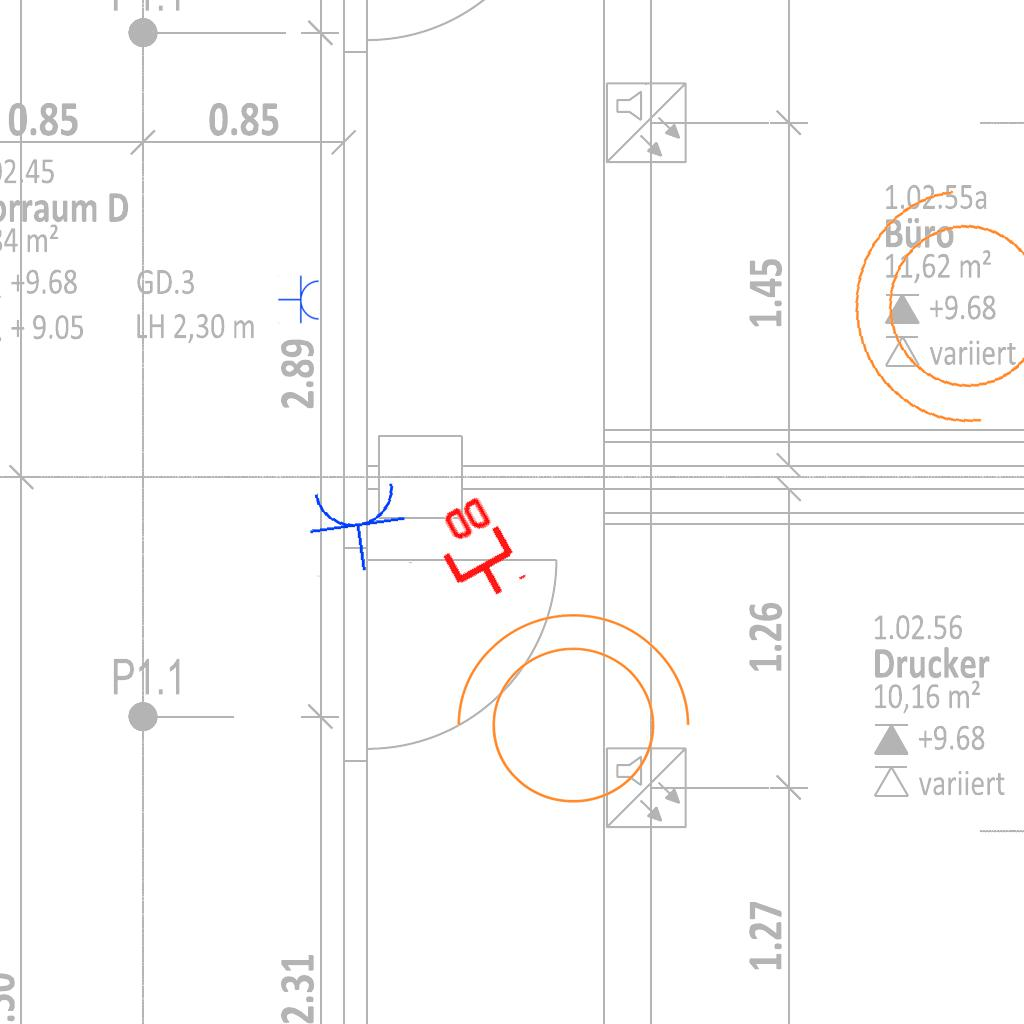Datenanschluss_zweifach: (419, 489, 530, 614)
Scheinwerfer_fuer_Alarmbeleuchtung: (435, 603, 699, 828), (830, 168, 1024, 459)
Schukosteckdose_einfach: (303, 477, 415, 578), (278, 275, 321, 325)
